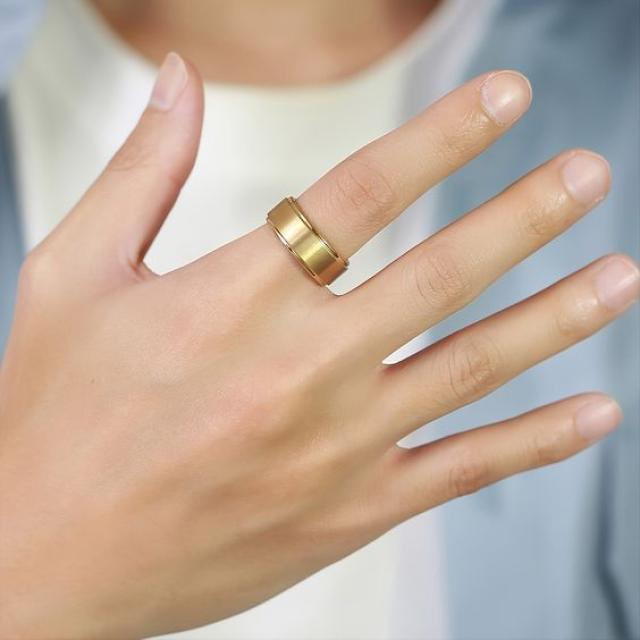Fingernail: (561, 153, 611, 206), (485, 70, 532, 126), (595, 257, 639, 315), (151, 53, 188, 109), (577, 398, 622, 439)
